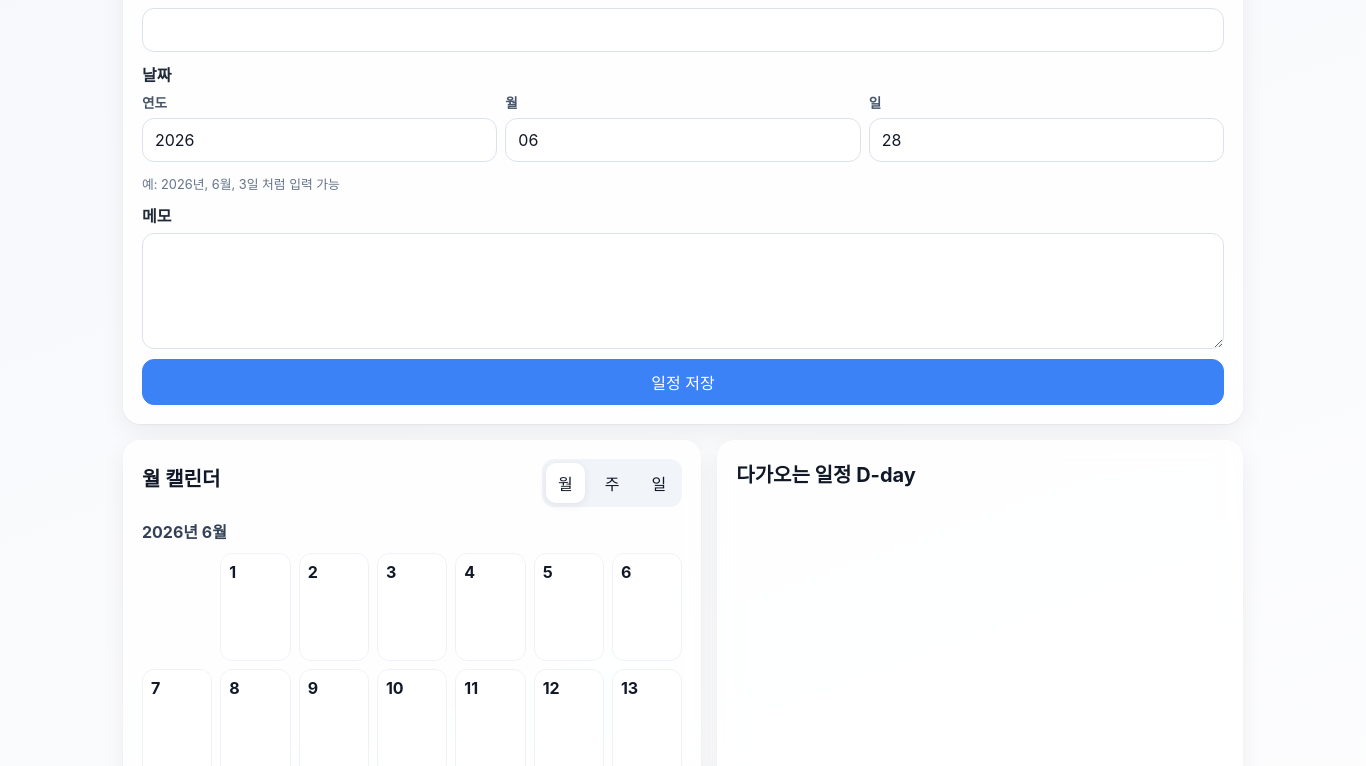
Test case: App › shows field errors when required values are missing
(page scrolled)
What coordinates should you click on to do the following:
click the button "일정 저장"
I would click on:
 (683, 382)
Its box is [142, 359, 1224, 405].
(page scrolled)
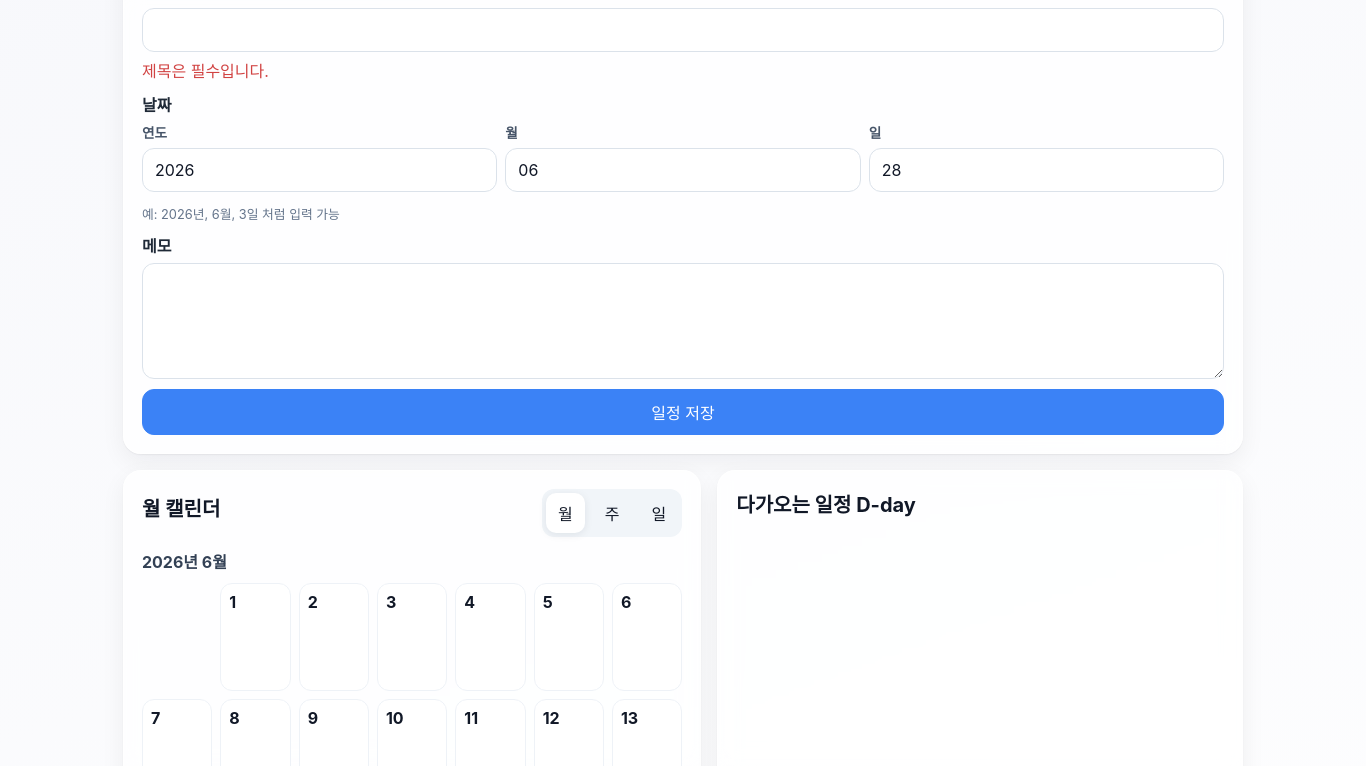
Result: the text "제목은 필수입니다." is shown at [142, 61, 269, 81]
